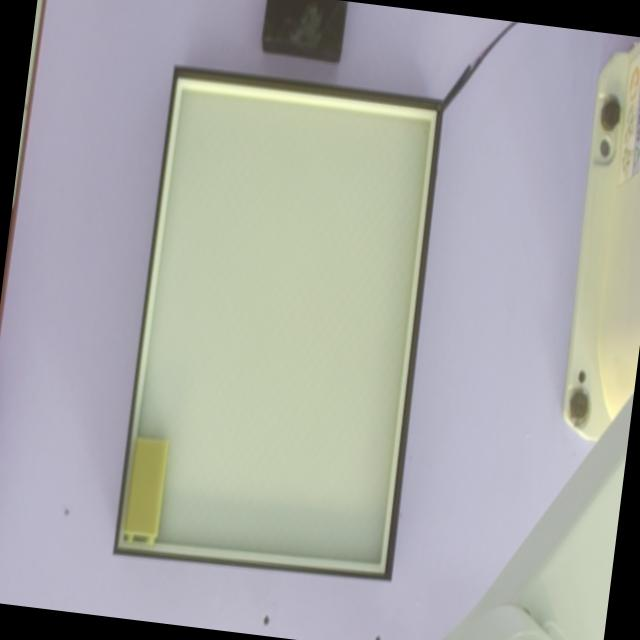bateria: (123, 438, 167, 544)
mesa: (113, 66, 445, 583)
